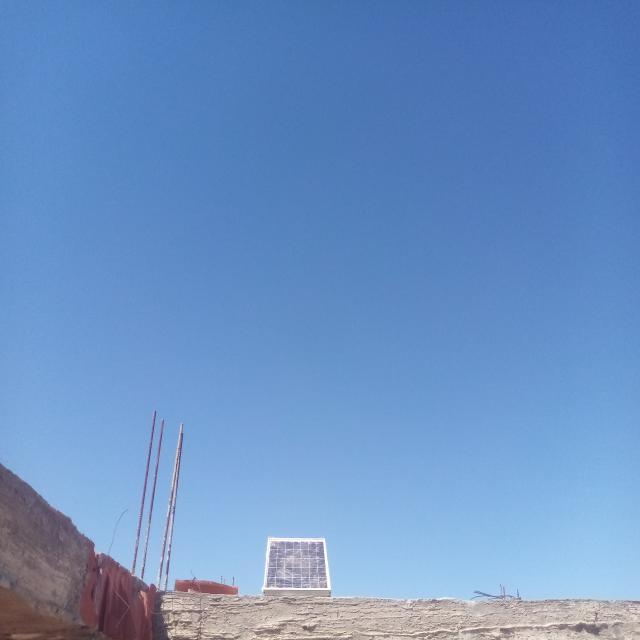faulty: (264, 537, 331, 590)
